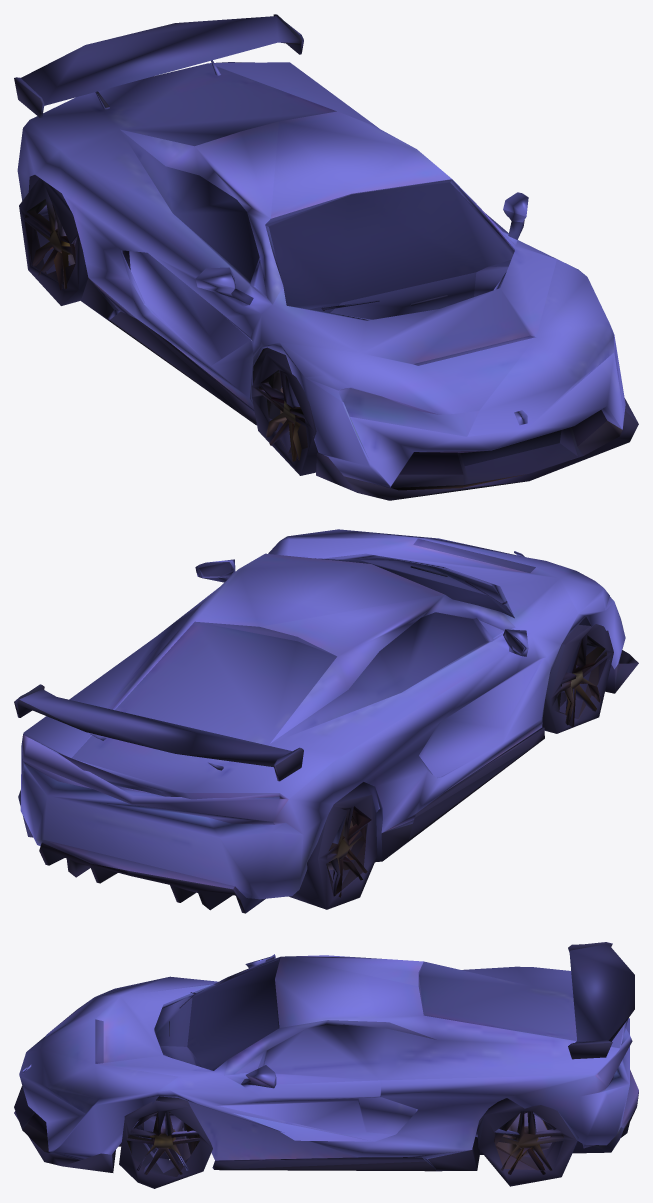
Rendered from model.progressive.glb.
The picture shows the model from 3 angles, top to bottom: view 1: azimuth 30°, elevation 25°; view 2: azimuth 150°, elevation 25°; view 3: azimuth 270°, elevation 25°; orthographic projection. The views are drawn at different scales.
Visible parts, largest first — view 1: material; view 2: material; view 3: material.
Part boxes in pixels (left/top/right/bottom): material: left=14, top=14, right=638, bottom=500; material: left=14, top=529, right=638, bottom=913; material: left=14, top=942, right=638, bottom=1188.
Size of the model in its own units: 0.908 by 0.5058 by 1.89.
Materials: 1 (1 with a texture image).
